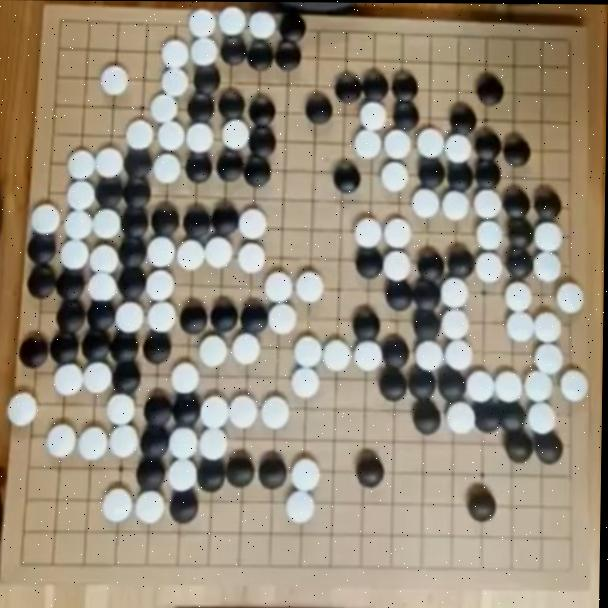corners: (6, 535, 51, 582), (549, 545, 588, 583), (47, 5, 84, 41), (546, 29, 584, 61)
